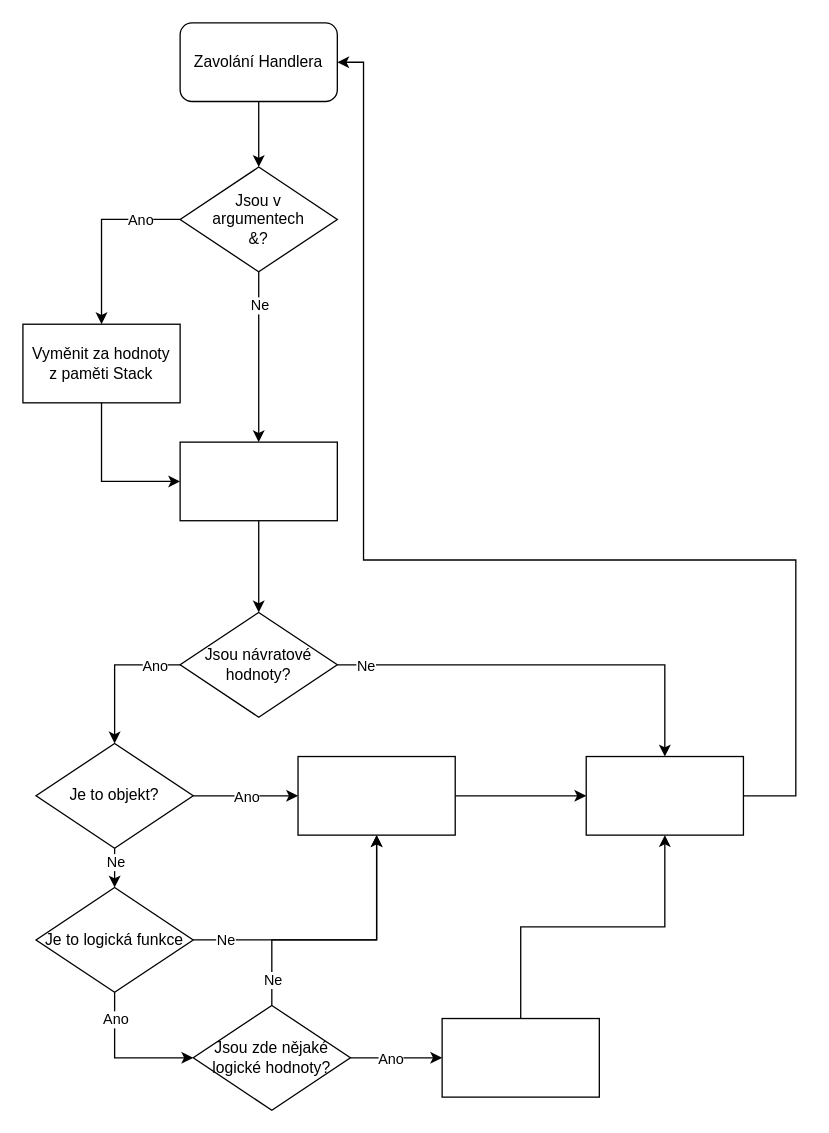
Some shapes in this 829 by 1133 pixel diagram are drawn without their labels. The centre of each missing label's shape, as x and y in pixels:
"Návrat do hlavního programu" goes at pixel 664 795.
"Přepsat eventy" goes at pixel 520 1057.
"Zapsat do paměti" goes at pixel 376 795.
"Zavolání skriptu a předání hodnot" goes at pixel 258 481.
